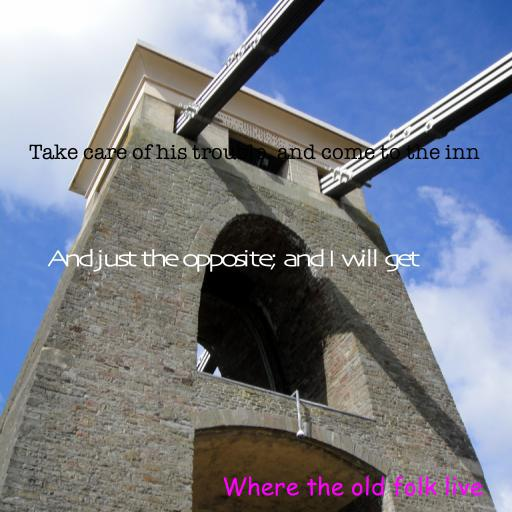American Typewriter: (28, 144, 480, 163)
Comic Sans MS: (221, 476, 483, 497)
Skia: (48, 249, 418, 272)
